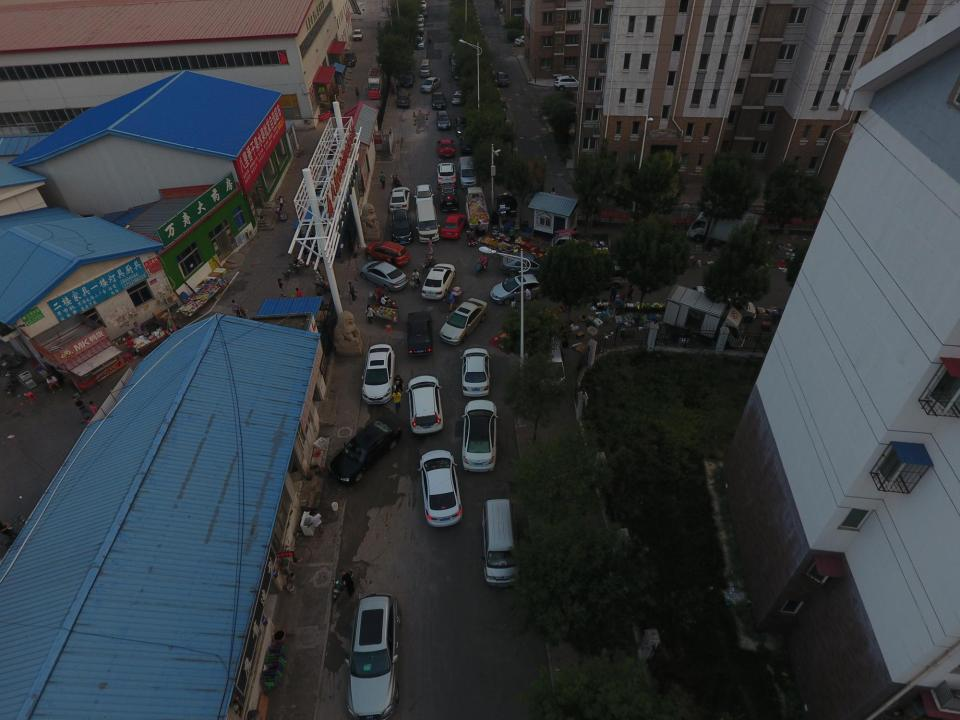car: (344, 593, 400, 720), (327, 417, 401, 484), (418, 450, 462, 528), (461, 400, 499, 472), (438, 298, 487, 344), (406, 376, 444, 433), (361, 344, 395, 404), (490, 274, 550, 305), (358, 260, 408, 292), (460, 348, 491, 397), (501, 252, 558, 277), (405, 310, 434, 356), (422, 264, 456, 300), (364, 241, 411, 267), (578, 265, 628, 289), (390, 209, 414, 244), (436, 184, 459, 210), (389, 187, 411, 212), (554, 75, 585, 91), (414, 184, 434, 207), (436, 163, 456, 185), (454, 115, 472, 135), (436, 139, 454, 157), (420, 77, 440, 93), (435, 110, 452, 128), (458, 136, 476, 153), (430, 92, 446, 110), (514, 36, 540, 46), (343, 50, 357, 68), (452, 62, 466, 80), (399, 71, 413, 88), (496, 71, 510, 87), (451, 90, 466, 104), (397, 91, 410, 107), (452, 52, 464, 65), (352, 29, 364, 40), (414, 37, 424, 49), (417, 0, 427, 9), (415, 14, 424, 23), (419, 8, 427, 16), (415, 24, 423, 32)
truck: (663, 284, 747, 348), (686, 206, 762, 250), (551, 232, 610, 253), (464, 187, 489, 231), (497, 192, 520, 232), (366, 68, 385, 100)
van: (480, 499, 522, 586), (697, 286, 756, 323), (533, 336, 565, 393), (415, 200, 440, 242), (458, 157, 477, 189), (419, 59, 431, 77)
